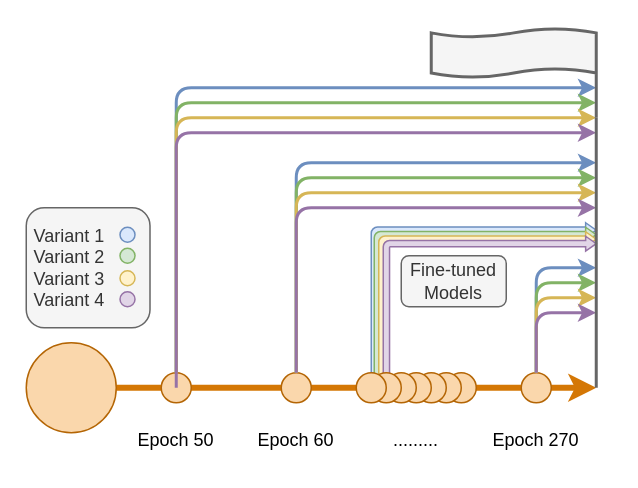
This 638x488 diagram has some shape labels left out. The box of each missing label's shape, as (x1, y1, x2, y2) in pixels:
Baseline Model: (25, 341, 116, 433)
Best Validation: (429, 26, 597, 118)
